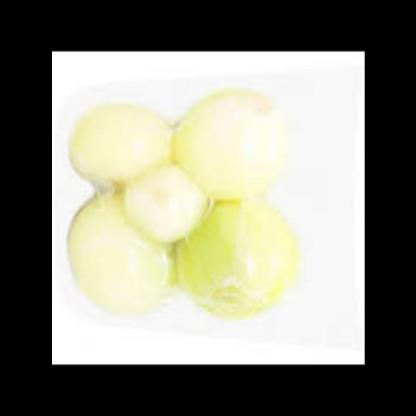onion: (63, 95, 300, 314)
